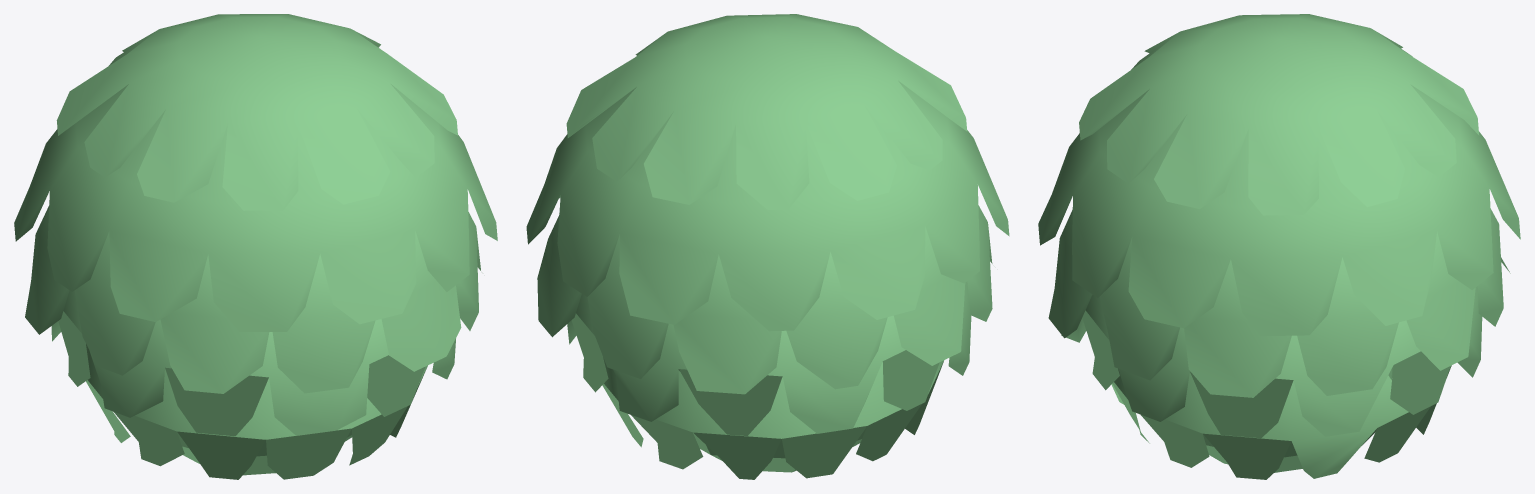
File: Bush1.002.fbx
3 views of the same model, side by side, from view 1: azimuth 30°, elevation 25°; view 2: azimuth 150°, elevation 25°; view 3: azimuth 270°, elevation 25° (orthographic).
Parts seen in each view (by area): view 1: Bush1.002; view 2: Bush1.002; view 3: Bush1.002.
Part boxes in pixels (x1,y1,x2,y2): Bush1.002: (14, 14, 497, 479); Bush1.002: (526, 14, 1009, 479); Bush1.002: (1038, 14, 1520, 479).
Bounding box in the file's own units: 103 × 102 × 106.
